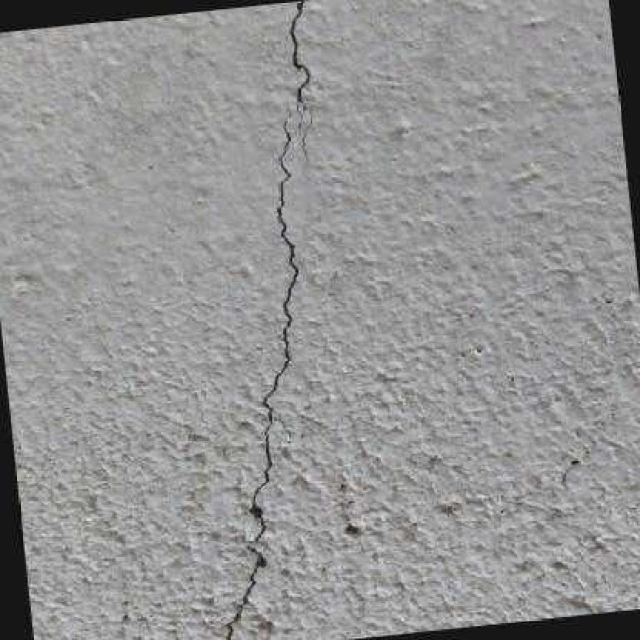D00: (218, 114, 300, 640), (287, 1, 312, 107)
